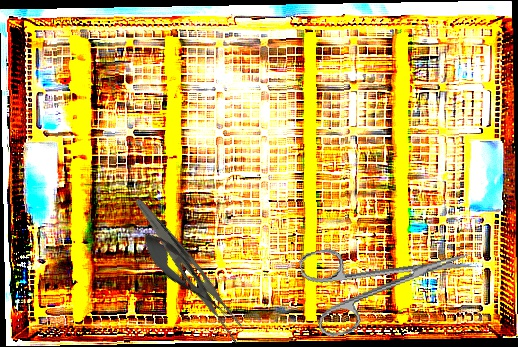Dressing Forceps: (119, 196, 256, 347)
Iris Scissors: (297, 220, 479, 341)
Micro Scissor: (132, 223, 238, 327)
